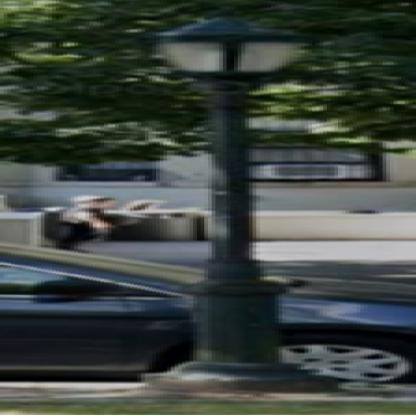Streetlights 1: (111, 9, 343, 396)
